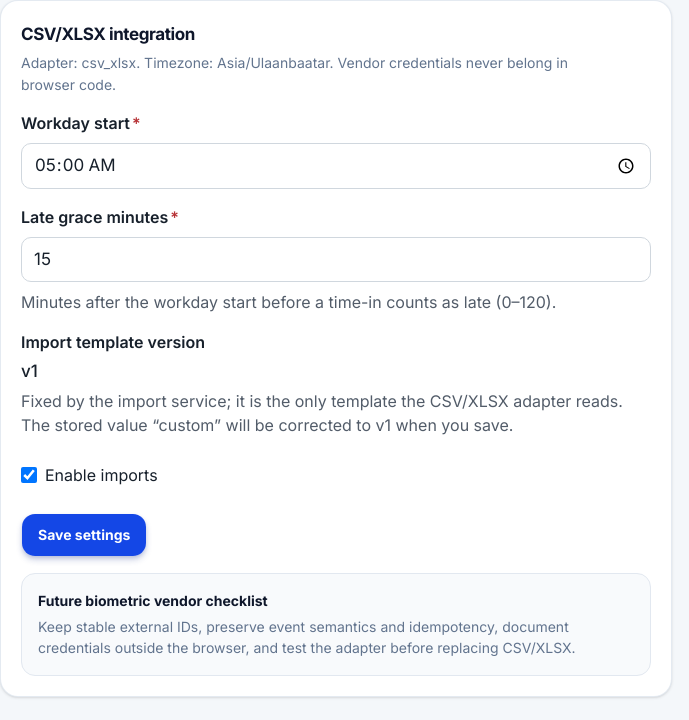
AttendanceIntegrationSettings › shows the template version read-only and always submits the supported v1 template
Expected: the text "v1" is shown, [21, 361, 38, 381]
Step 1. Click the button "Save settings" → x=84, y=535, box [21, 513, 147, 557]
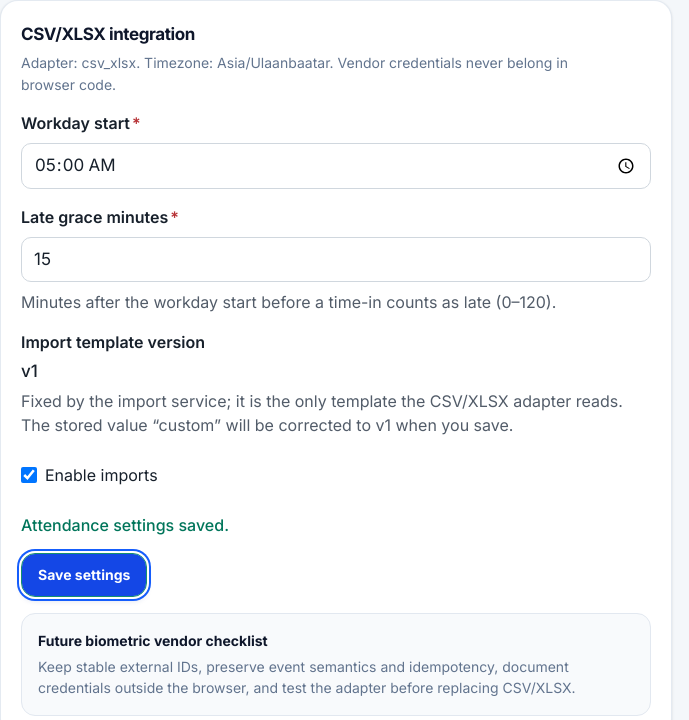
Expected: the time field labelled "Workday start*" holds "05:00", [21, 143, 651, 189]
Now the message reads "Attendance settings saved.", box [21, 515, 229, 535]
